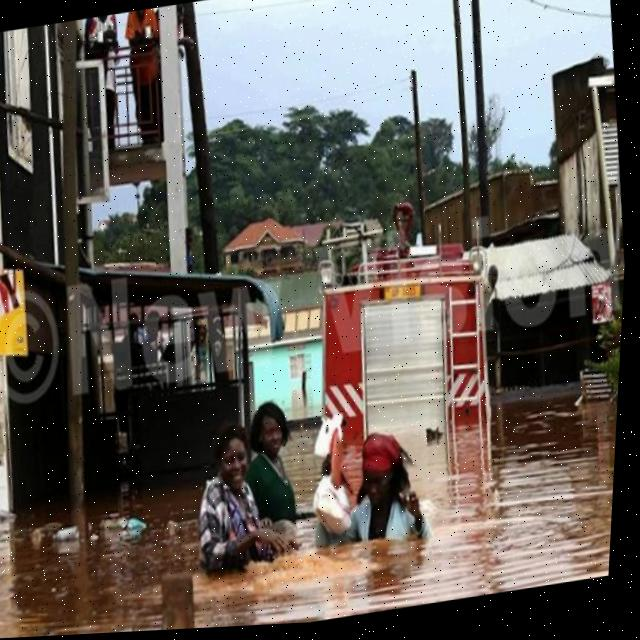civilian: (164, 414, 298, 601), (307, 422, 440, 581), (230, 390, 320, 536)
